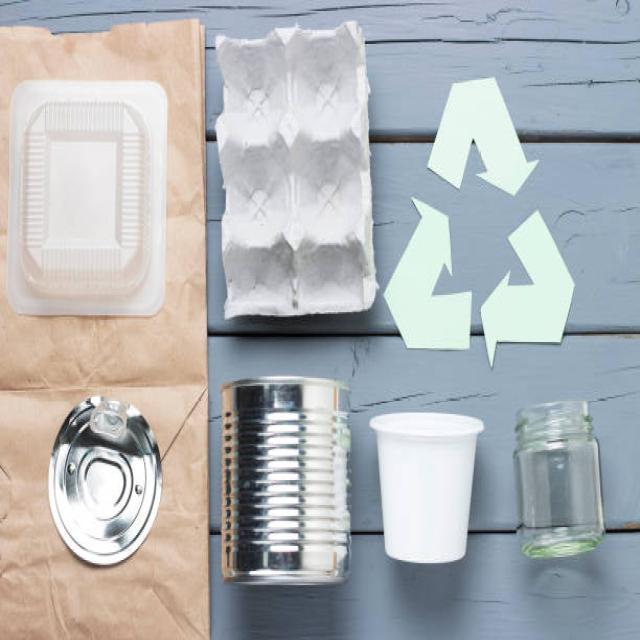cardboard: (213, 36, 381, 320)
glass: (514, 397, 610, 571)
metal: (218, 373, 358, 602), (58, 398, 163, 558)
plastic: (11, 81, 179, 322)
